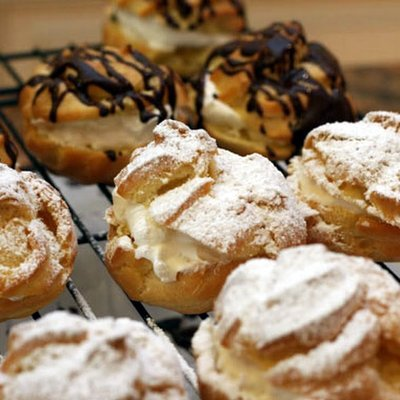soup: (103, 119, 312, 315)
